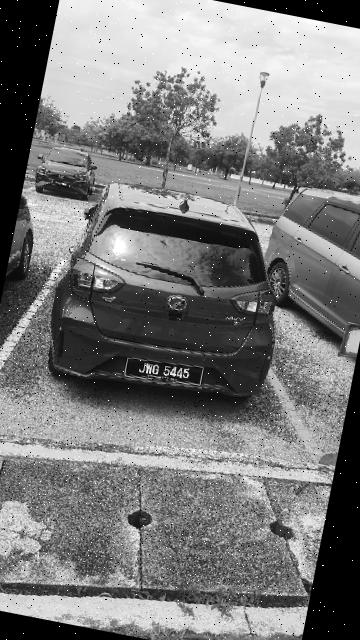License_Plate: (120, 352, 212, 391)
car: (42, 171, 309, 419)
